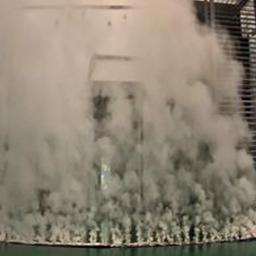smoke: (0, 0, 256, 243)
